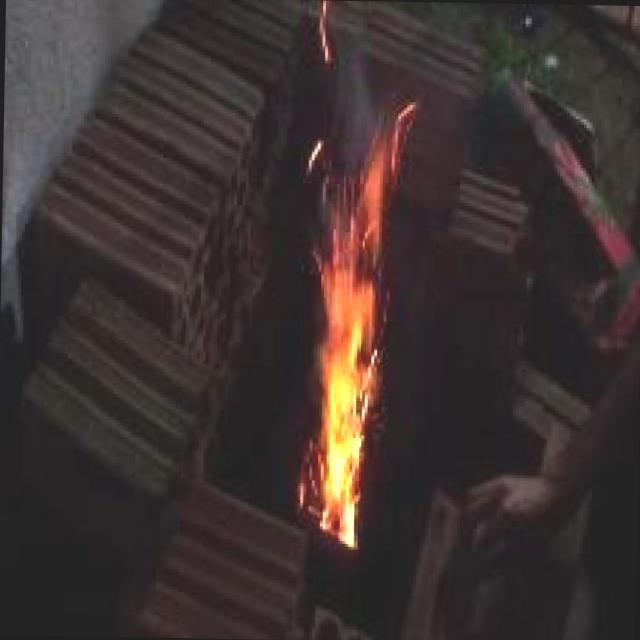fire: (237, 77, 426, 588)
